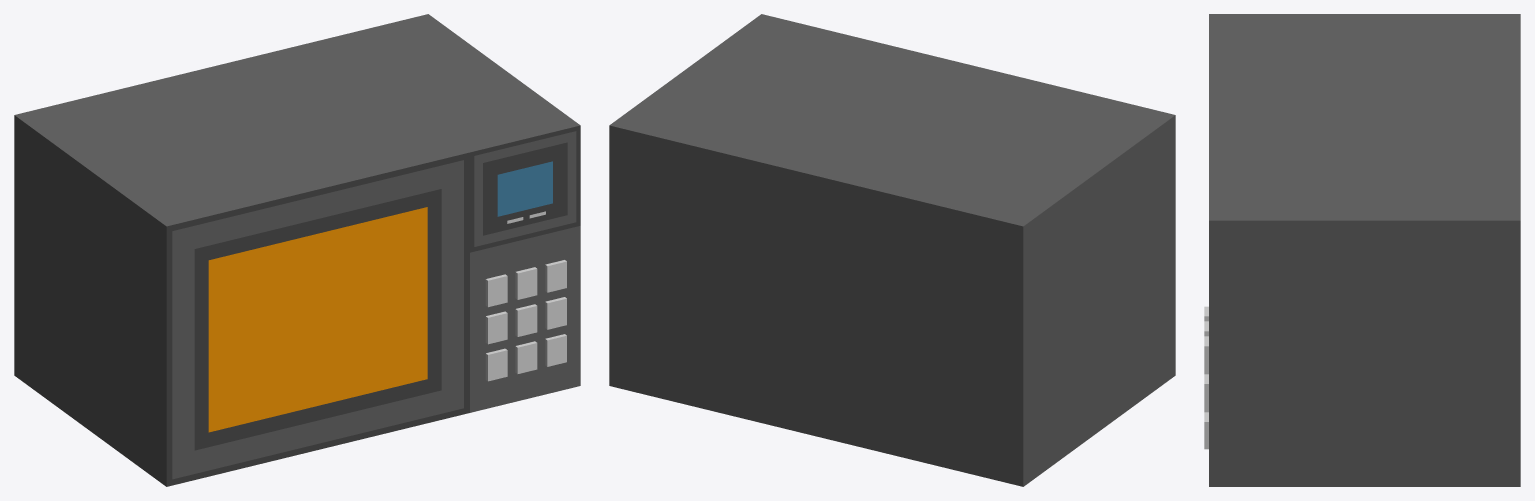
File: Microwave.fbx
3 renders of one model, left to right at view 1: azimuth 30°, elevation 25°; view 2: azimuth 150°, elevation 25°; view 3: azimuth 270°, elevation 25°, orthographic. The views are drawn at different scales.
Visible parts, largest first — view 1: Microwave; view 2: Microwave; view 3: Microwave.
Boxes of the visible parts, x1,y1,x2,y2 form: Microwave: (14,14,580,486); Microwave: (609,14,1175,486); Microwave: (1204,14,1520,486).
Bounding box in the file's own units: 53.19 × 33.09 × 34.38.
